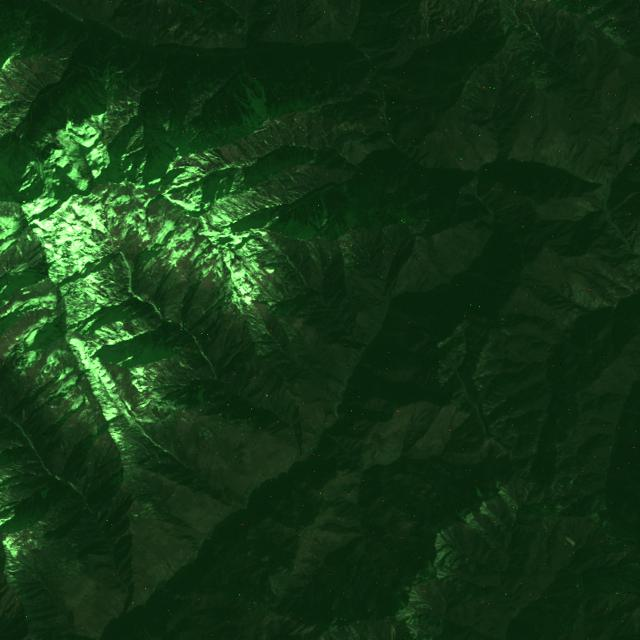landslides: (202, 282, 231, 313), (222, 314, 241, 353), (210, 199, 239, 221), (352, 140, 384, 159), (229, 194, 259, 213), (223, 195, 249, 215), (277, 119, 294, 149), (239, 76, 255, 107), (241, 193, 262, 213), (247, 192, 270, 210), (14, 29, 37, 44), (270, 22, 278, 48), (357, 151, 371, 164), (132, 321, 144, 336), (79, 475, 87, 494), (285, 194, 298, 205), (244, 152, 254, 166), (40, 486, 51, 498), (412, 589, 424, 600), (408, 598, 429, 604), (566, 536, 576, 548), (265, 197, 278, 206), (426, 0, 429, 37), (357, 24, 378, 29), (542, 522, 550, 535)
